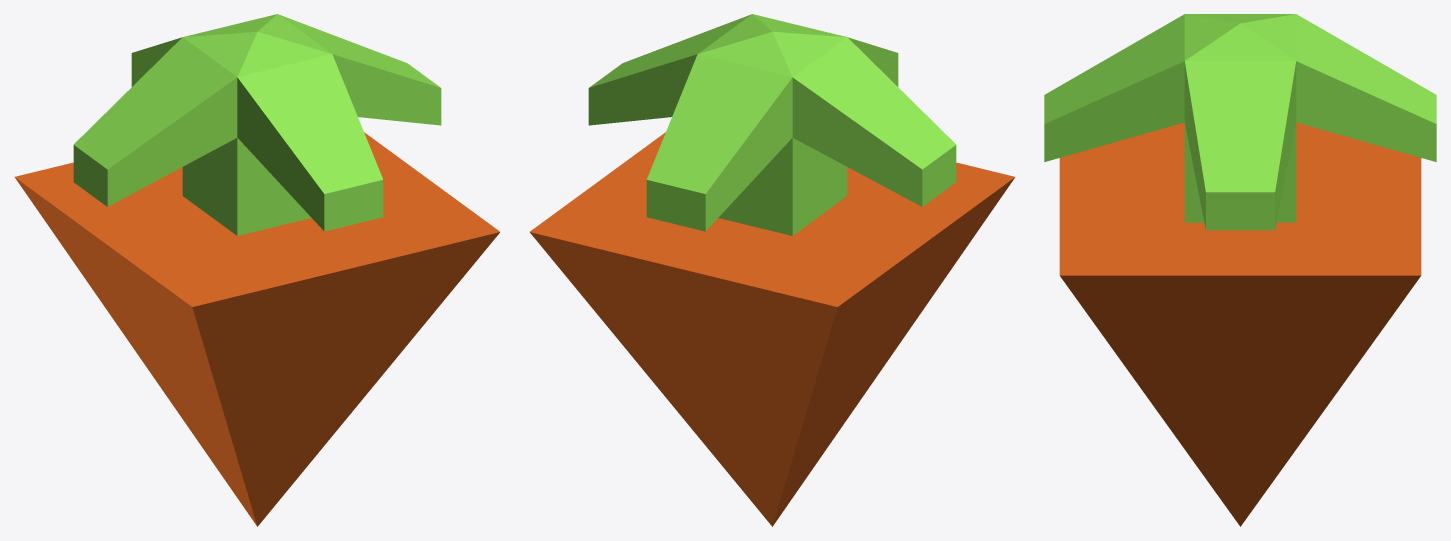
Rendered from CarrotTemp.fbx.
3 renders of one model, left to right at view 1: azimuth 30°, elevation 25°; view 2: azimuth 150°, elevation 25°; view 3: azimuth 270°, elevation 25°, orthographic.
Visible parts, largest first — view 1: Cube; view 2: Cube; view 3: Cube.
Part boxes in pixels (x1=…): Cube: x1=14, y1=14, x2=499, y2=526; Cube: x1=530, y1=14, x2=1015, y2=526; Cube: x1=1044, y1=14, x2=1436, y2=526.
Bounding box in the file's own units: 217 × 307 × 217.
